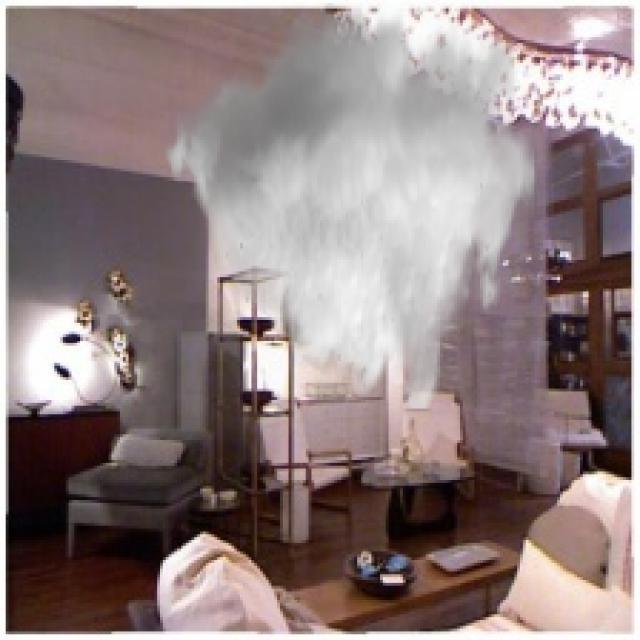Smoke: (157, 2, 537, 412)
